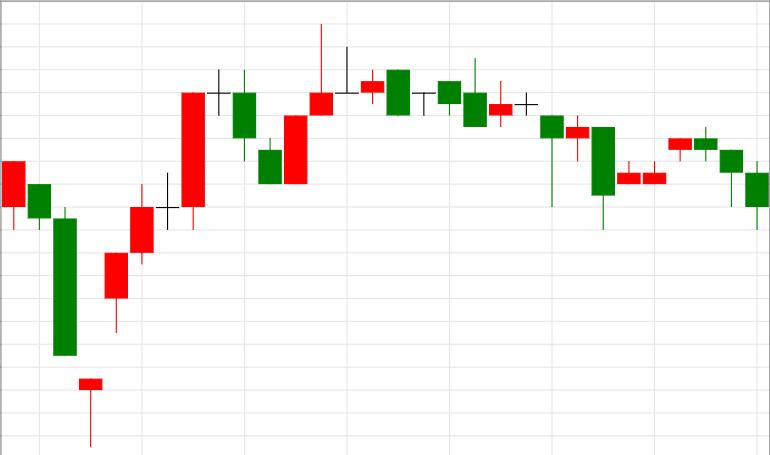bullish_engulfing_rise: (207, 68, 308, 184)
morning_star_rise: (3, 162, 128, 448)
